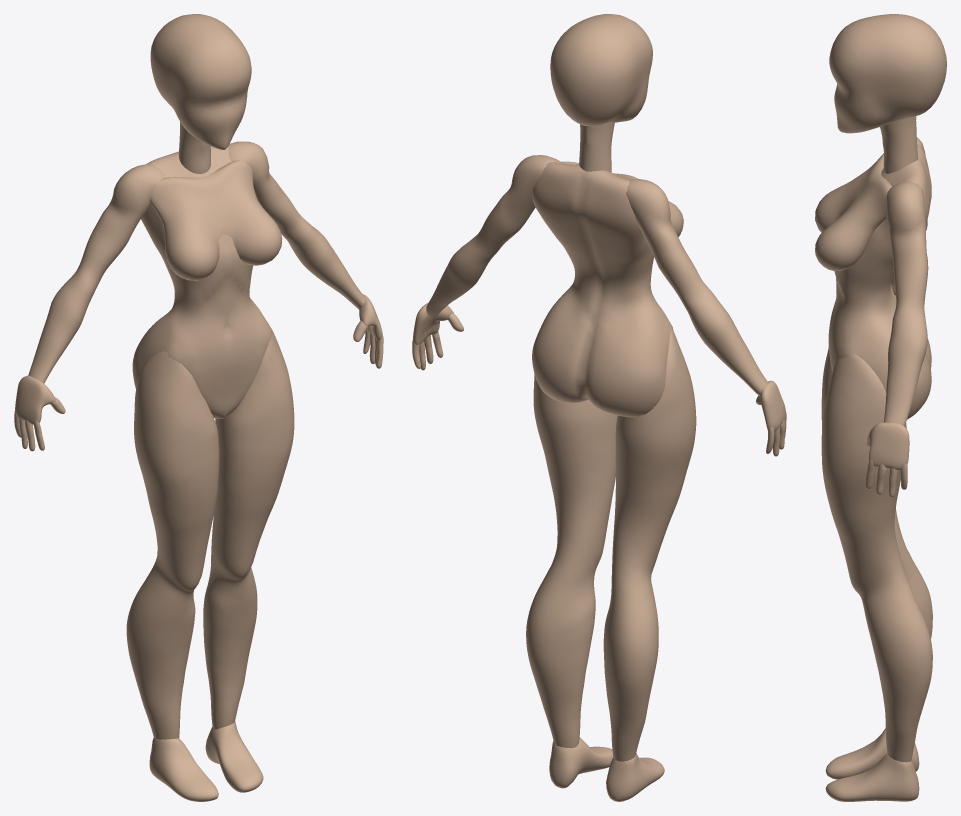
Rendered from slim-medium.glb.
The picture shows the model from 3 angles, left to right: view 1: azimuth 30°, elevation 25°; view 2: azimuth 150°, elevation 25°; view 3: azimuth 270°, elevation 25°; orthographic projection.
Parts seen in each view (by area): view 1: FEMALE BODY TYPE 5_FEMALE BODY TYPE 5_0; view 2: FEMALE BODY TYPE 5_FEMALE BODY TYPE 5_0; view 3: FEMALE BODY TYPE 5_FEMALE BODY TYPE 5_0.
Boxes of the visible parts, bbox=[...] form: FEMALE BODY TYPE 5_FEMALE BODY TYPE 5_0: bbox=[14, 14, 383, 801]; FEMALE BODY TYPE 5_FEMALE BODY TYPE 5_0: bbox=[412, 14, 786, 801]; FEMALE BODY TYPE 5_FEMALE BODY TYPE 5_0: bbox=[815, 14, 946, 801].
Size of the model in its own units: 0.8784 by 1.77 by 0.2759.
